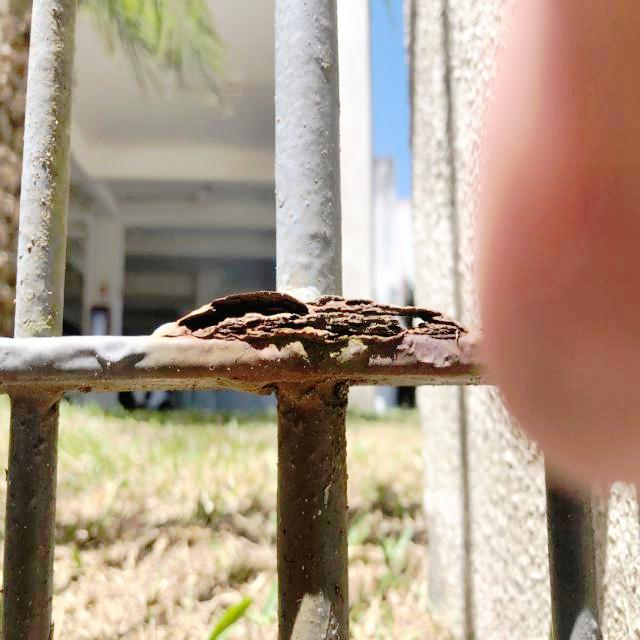Corrosion: (148, 292, 490, 403)
